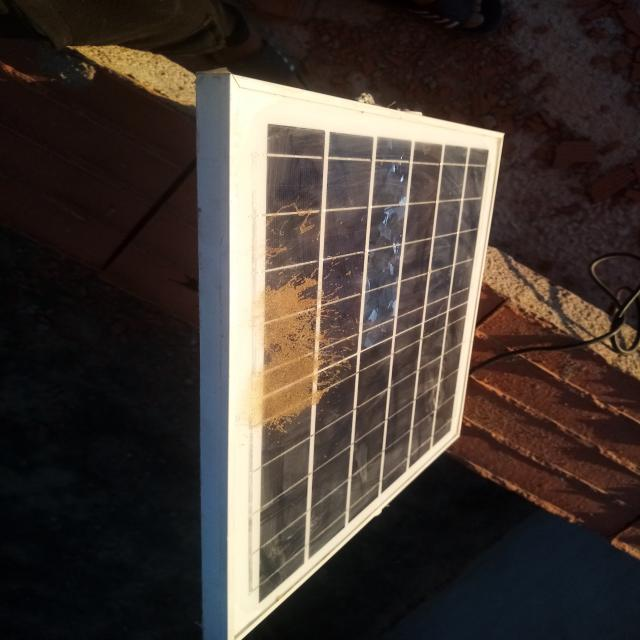faulty: (232, 79, 504, 639)
